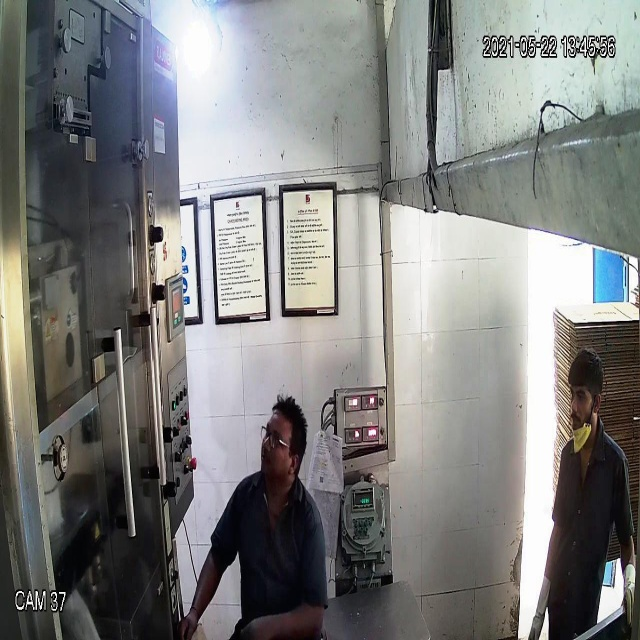Gafas: (258, 422, 301, 456)
Sin_gafas: (565, 385, 596, 409)
